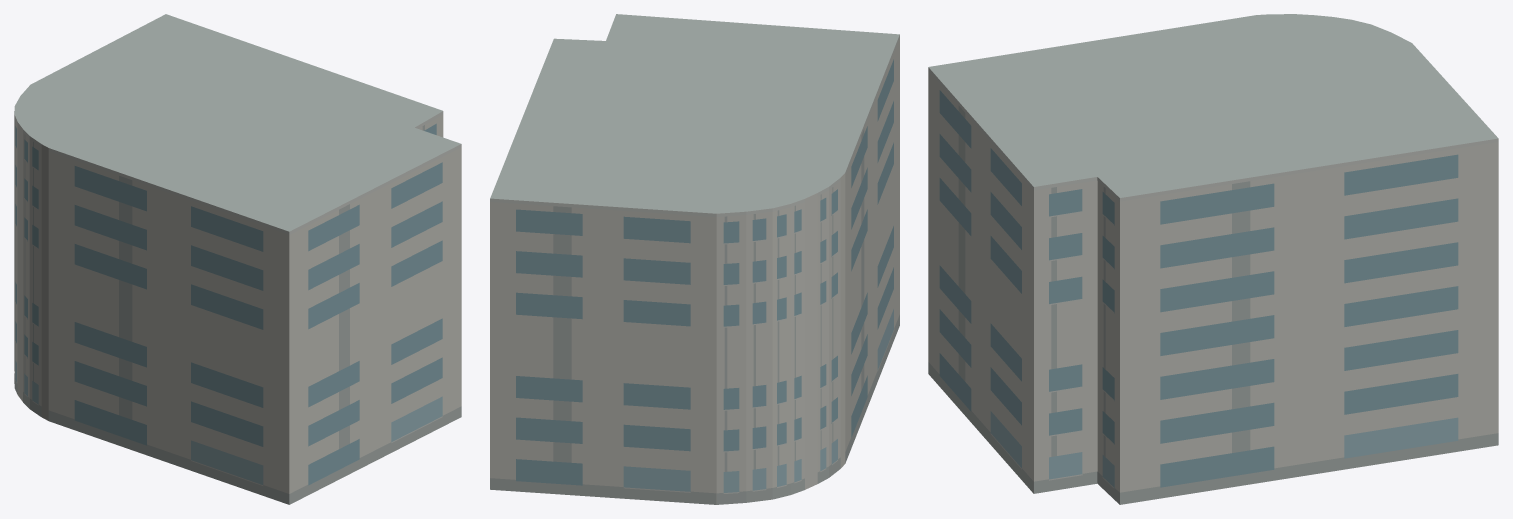
Rendered from survey-upis-32722164.glb.
3 renders of one model, left to right at view 1: azimuth 30°, elevation 25°; view 2: azimuth 150°, elevation 25°; view 3: azimuth 270°, elevation 25°, orthographic. The views are drawn at different scales.
Parts seen in each view (by area): view 1: survey-upis-32722164.tmp; view 2: survey-upis-32722164.tmp; view 3: survey-upis-32722164.tmp.
Boxes of the visible parts, x1,y1,x2,y2 form: survey-upis-32722164.tmp: (14, 14, 461, 504); survey-upis-32722164.tmp: (490, 14, 899, 504); survey-upis-32722164.tmp: (928, 14, 1498, 504).
Size of the model in its own units: 26.71 by 20.75 by 34.97.
